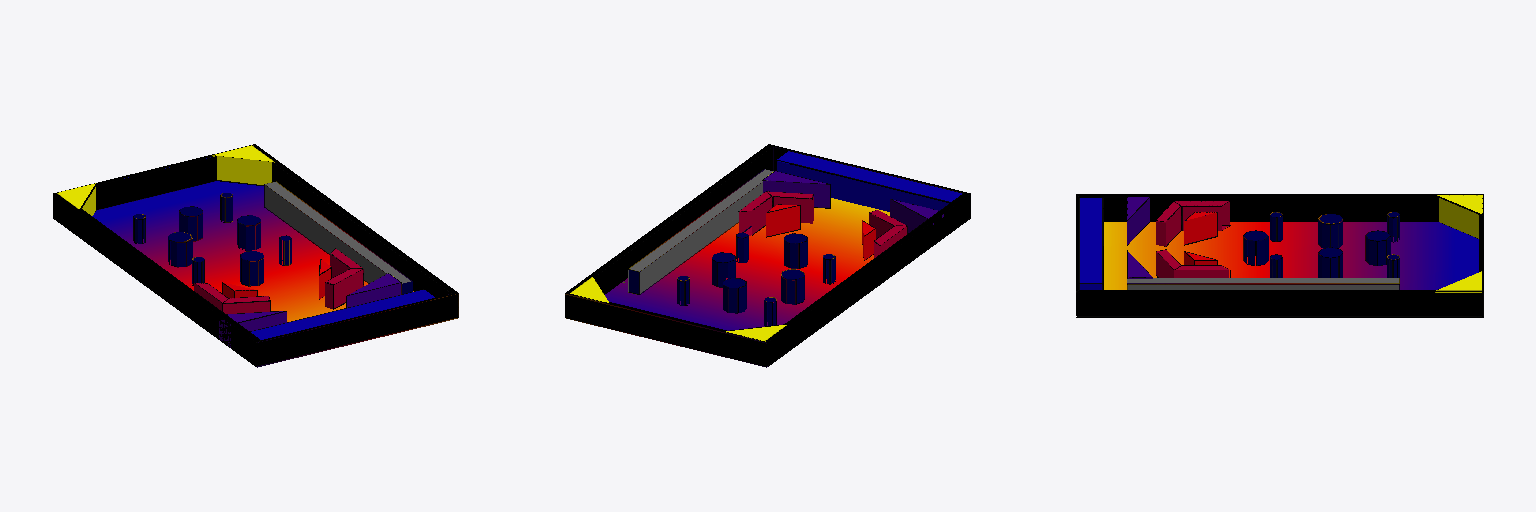
The picture shows the model from 3 angles: view 1: azimuth 30°, elevation 25°; view 2: azimuth 150°, elevation 25°; view 3: azimuth 270°, elevation 25°; orthographic projection.
Parts seen in each view (by area): view 1: Cube.004_Cube.007; view 2: Cube.004_Cube.007; view 3: Cube.004_Cube.007.
Boxes of the visible parts, x1=… form: Cube.004_Cube.007: x1=53, y1=144, x2=458, y2=367; Cube.004_Cube.007: x1=565, y1=144, x2=970, y2=367; Cube.004_Cube.007: x1=1076, y1=194, x2=1483, y2=317.
Size of the model in its own units: 40.75 by 4.94 by 71.11.
1 materials, 1 textured.